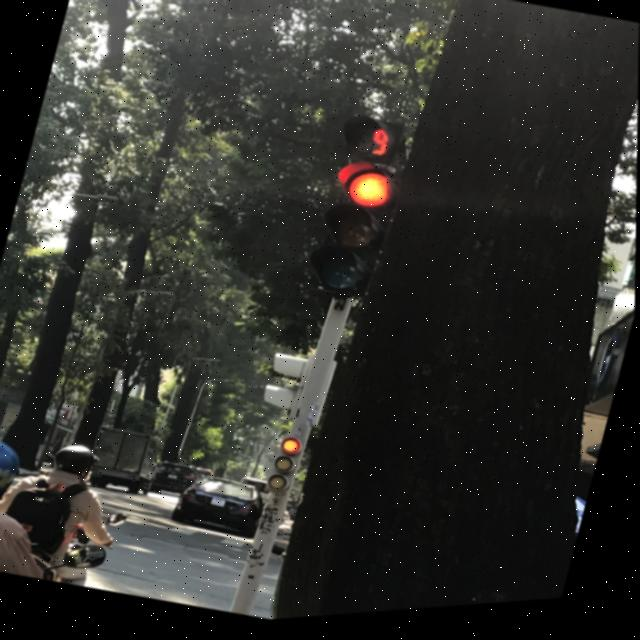Red: (301, 158, 400, 312), (266, 434, 305, 500)
